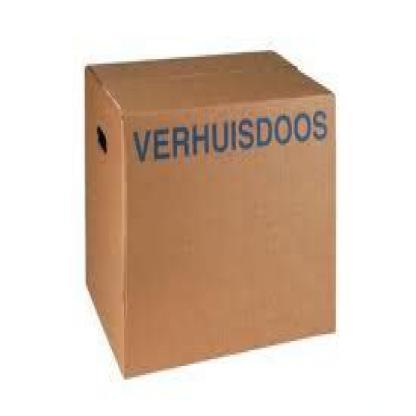box: (83, 47, 337, 379)
